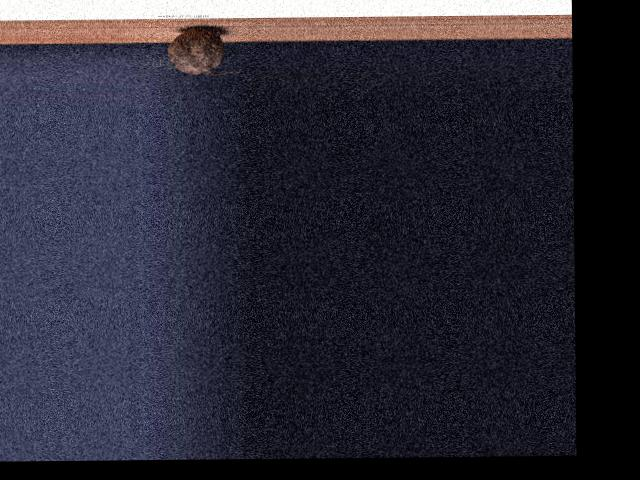beet: (168, 26, 241, 75)
